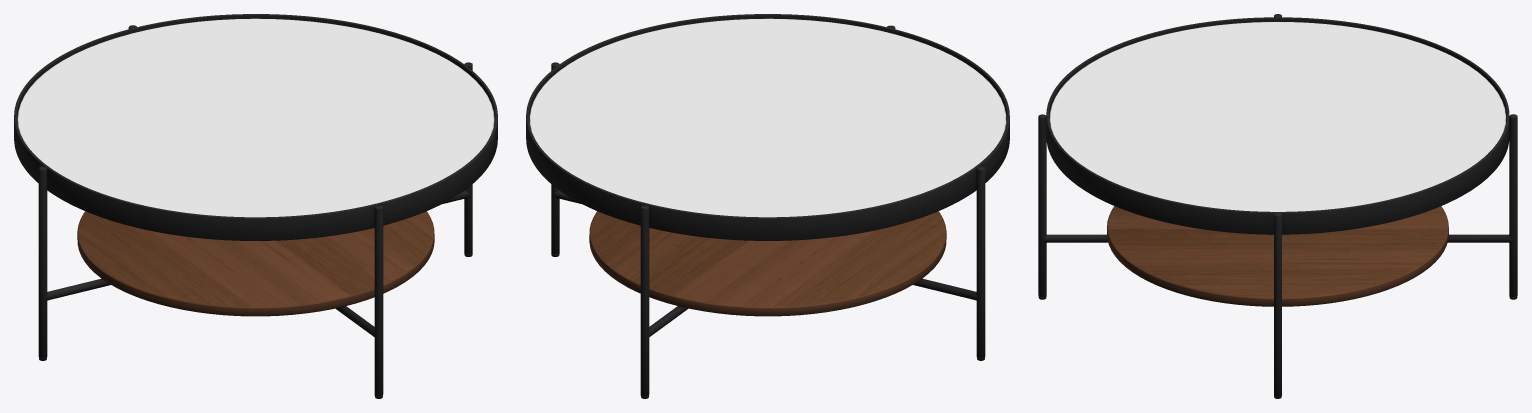
Rendered from kameko.gltf.
The picture shows the model from 3 angles, left to right: view 1: azimuth 30°, elevation 25°; view 2: azimuth 150°, elevation 25°; view 3: azimuth 270°, elevation 25°; orthographic projection. The views are drawn at different scales.
Visible parts, largest first — view 1: GLASS001, WALNUT001, IRON_BLACK001; view 2: GLASS001, WALNUT001, IRON_BLACK001; view 3: GLASS001, WALNUT001, IRON_BLACK001.
Part boxes in pixels (x1=…): GLASS001: x1=17, y1=18, x2=494, y2=217; WALNUT001: x1=77, y1=211, x2=434, y2=316; IRON_BLACK001: x1=14, y1=14, x2=497, y2=398; GLASS001: x1=529, y1=18, x2=1006, y2=217; WALNUT001: x1=589, y1=211, x2=946, y2=316; IRON_BLACK001: x1=526, y1=14, x2=1009, y2=398; GLASS001: x1=1049, y1=22, x2=1506, y2=211; WALNUT001: x1=1107, y1=206, x2=1448, y2=306; IRON_BLACK001: x1=1038, y1=14, x2=1517, y2=398.
Size of what is drawn, in the model's own units: 89.88 by 38.01 by 89.98.
3 materials, 3 textured.
